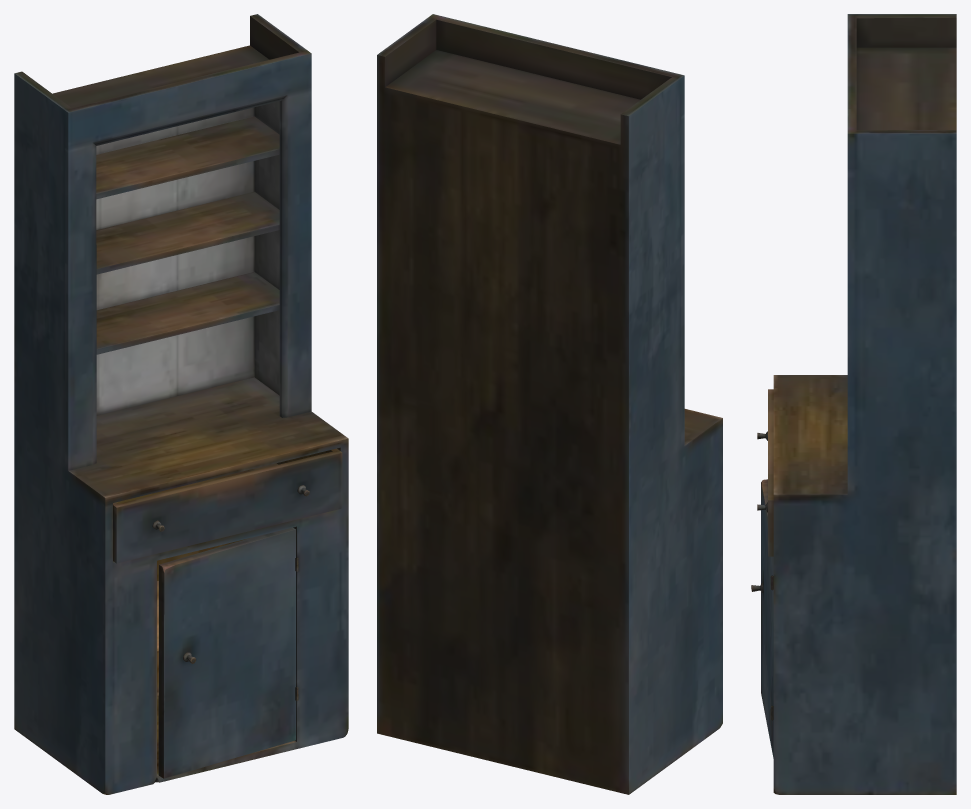
The model's file is painted_wooden_cabinet_02-BKHI-eKD.glb.
3 renders of one model, left to right at view 1: azimuth 30°, elevation 25°; view 2: azimuth 150°, elevation 25°; view 3: azimuth 270°, elevation 25°, orthographic. The views are drawn at different scales.
Visible parts, largest first — view 1: painted_wooden_cabinet_02; view 2: painted_wooden_cabinet_02; view 3: painted_wooden_cabinet_02.
Boxes of the visible parts, x1,y1,x2,y2 form: painted_wooden_cabinet_02: (14, 14, 348, 794); painted_wooden_cabinet_02: (377, 14, 722, 794); painted_wooden_cabinet_02: (751, 14, 956, 794).
Size of the model in its own units: 0.9969 by 2.57 by 0.7225.
Materials: 1 (1 with a texture image).
